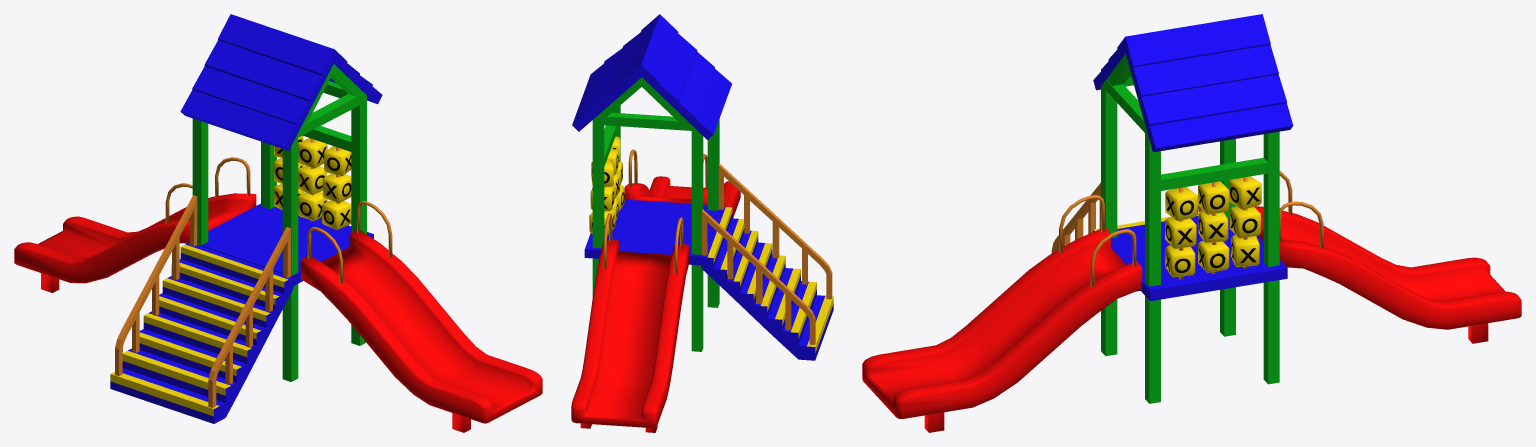
3 views of the same model, side by side, from view 1: azimuth 30°, elevation 25°; view 2: azimuth 150°, elevation 25°; view 3: azimuth 270°, elevation 25° (orthographic). The views are drawn at different scales.
Parts seen in each view (by area): view 1: model3; view 2: model3; view 3: model3.
Part boxes in pixels (<box>): model3: <box>14,14,542,432</box>; model3: <box>571,14,833,432</box>; model3: <box>862,14,1521,432</box>.
Bounding box in the file's own units: 3.12 × 3.08 × 5.32.
2 materials, 1 textured.
